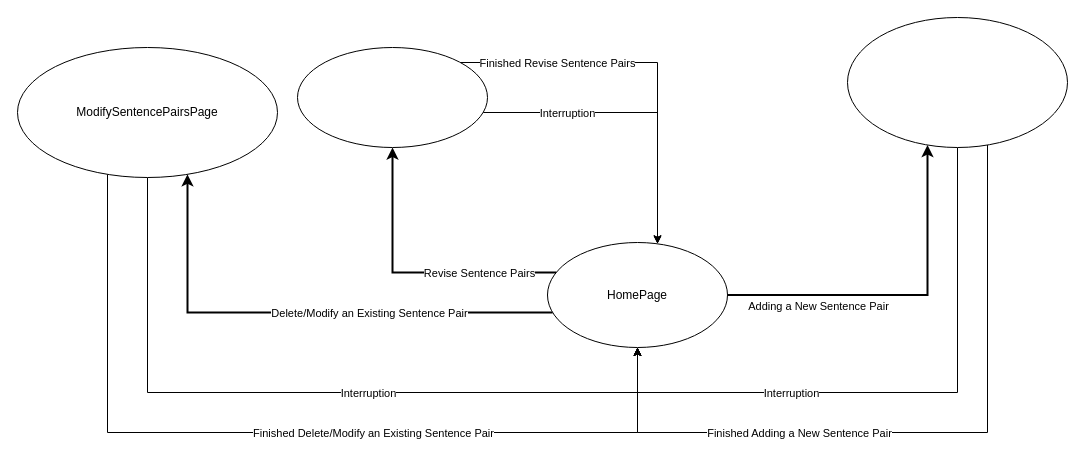
This 1085x458 diagram has some shape labels left out. Here are the shapes that lost their labels. From the top down, the centre of each, then its label:
At [392,97]: "RevisionPage".
At [957,82]: "AddSentencePairsPage".
